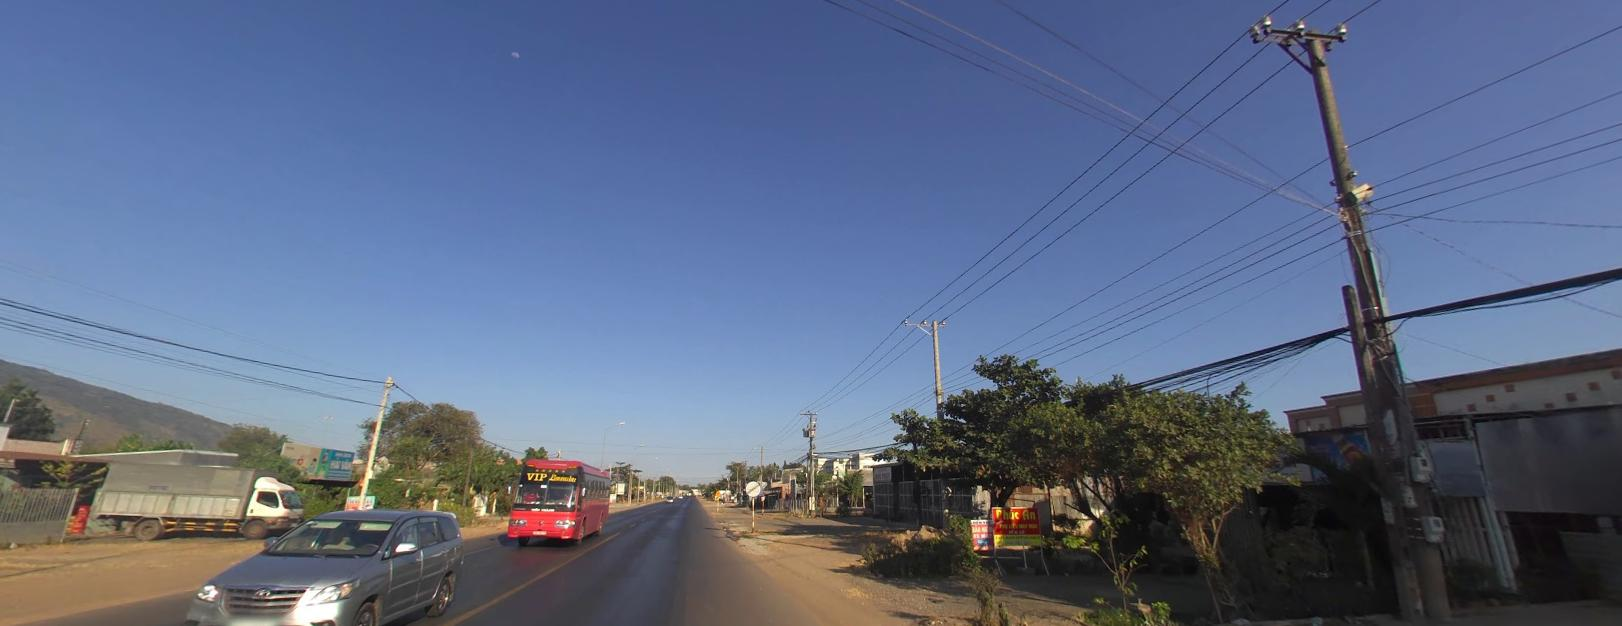Cam con lai: (745, 480, 759, 495)
Nguy hiem: (714, 488, 720, 495)
